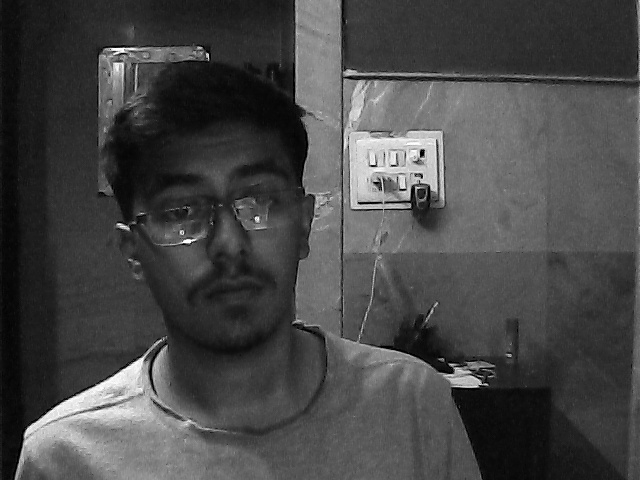nomask: (130, 116, 325, 351)
